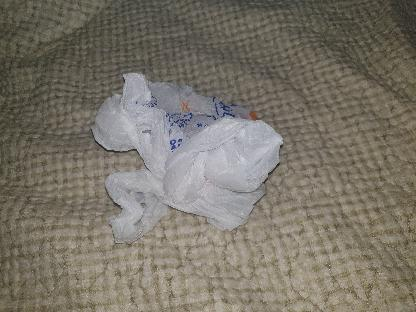Plastic Bag: (91, 71, 283, 243)
